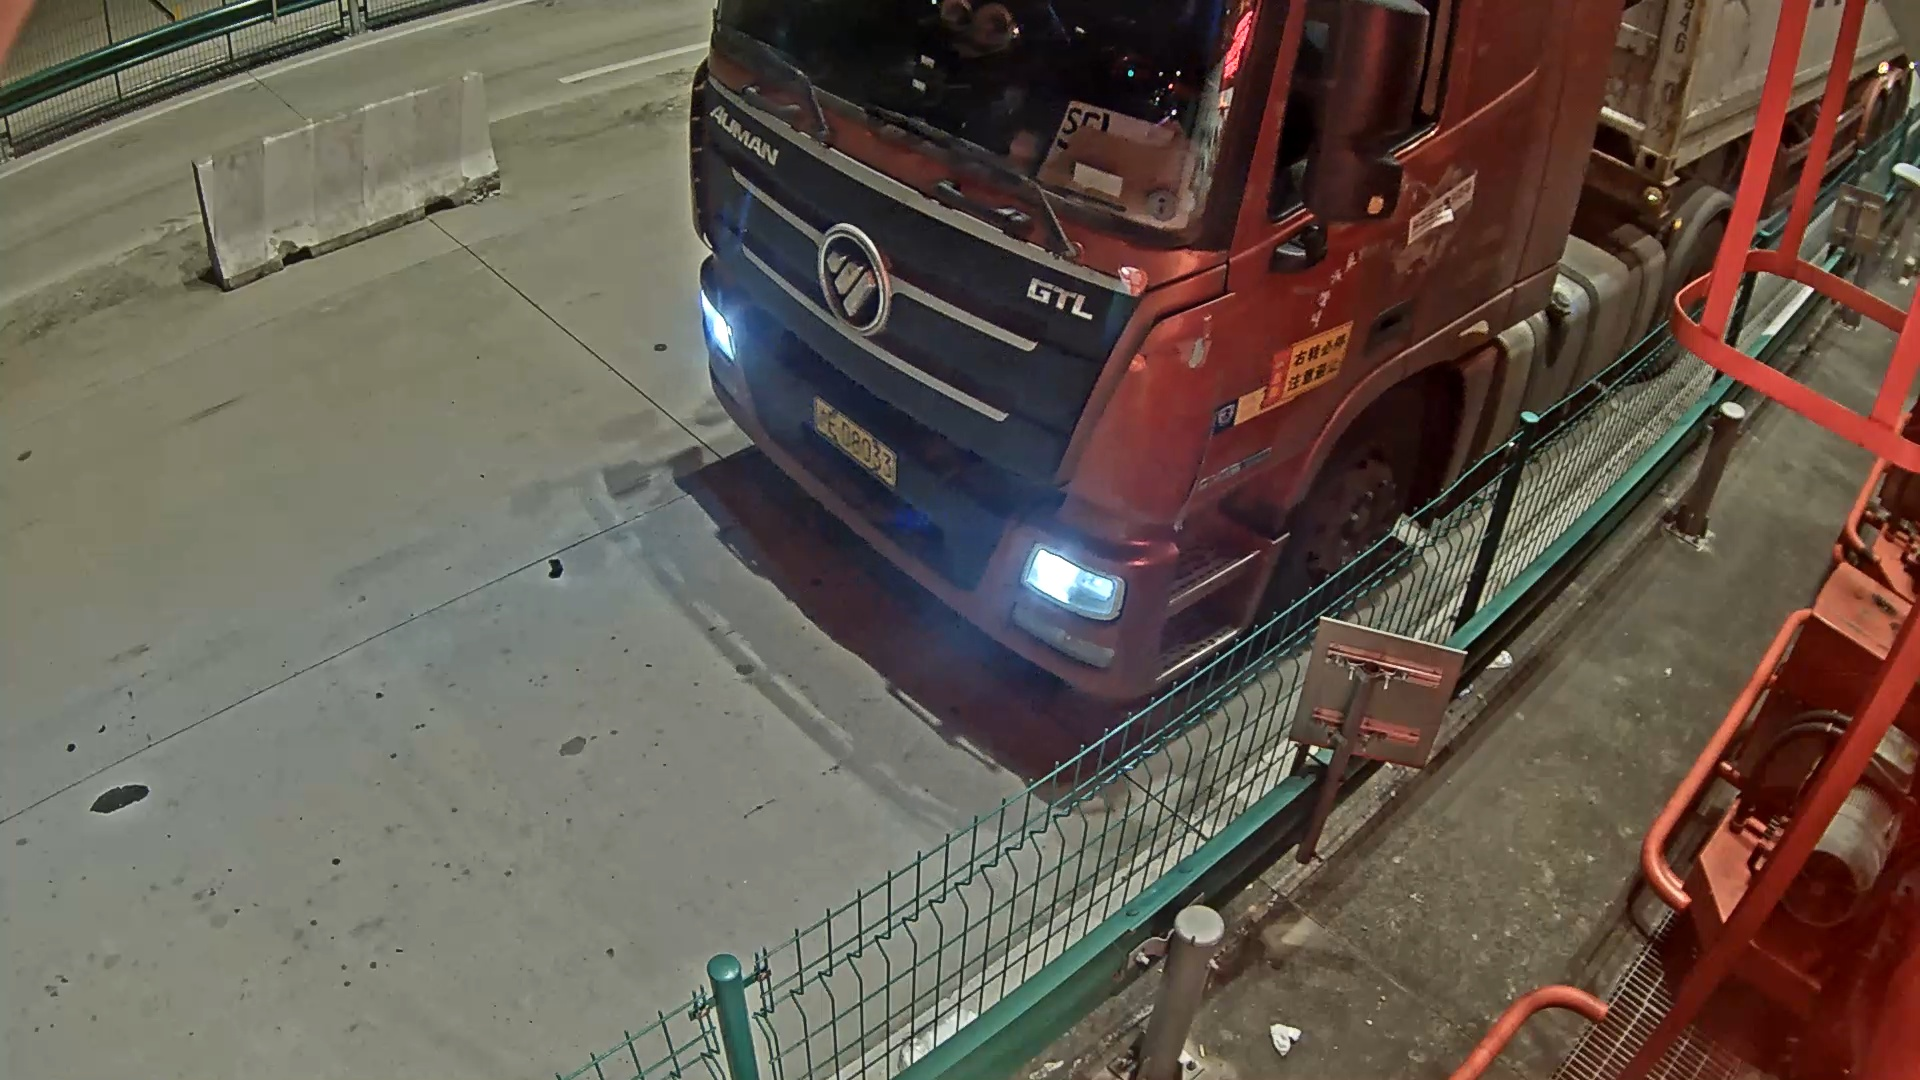head: (688, 14, 1389, 729)
plate: (796, 398, 912, 493)
